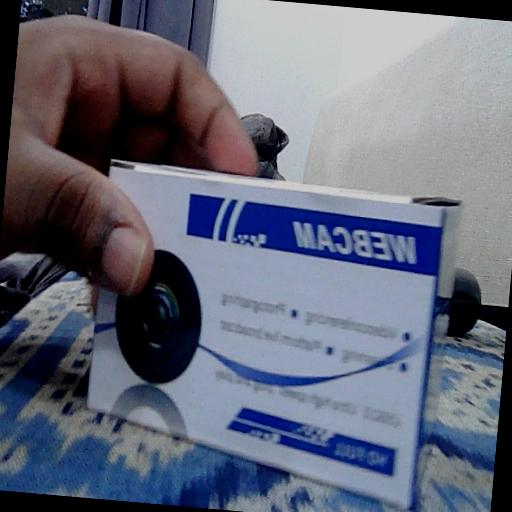webcam_box: (78, 157, 467, 512)
